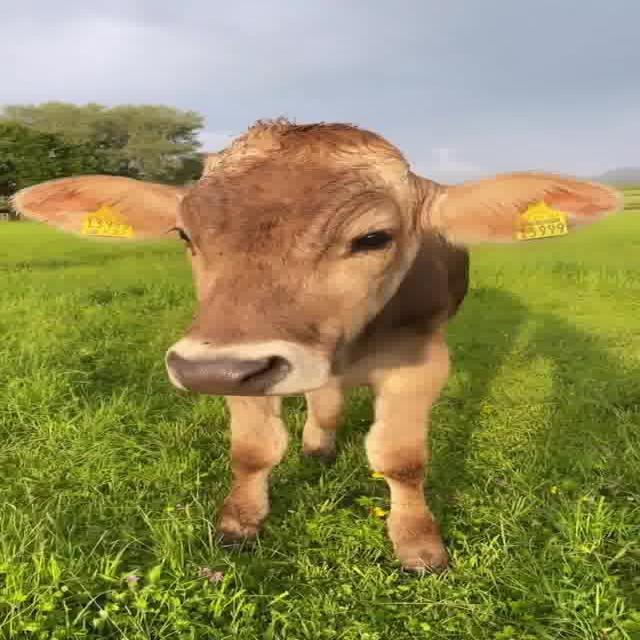cowFace: (9, 106, 628, 389)
